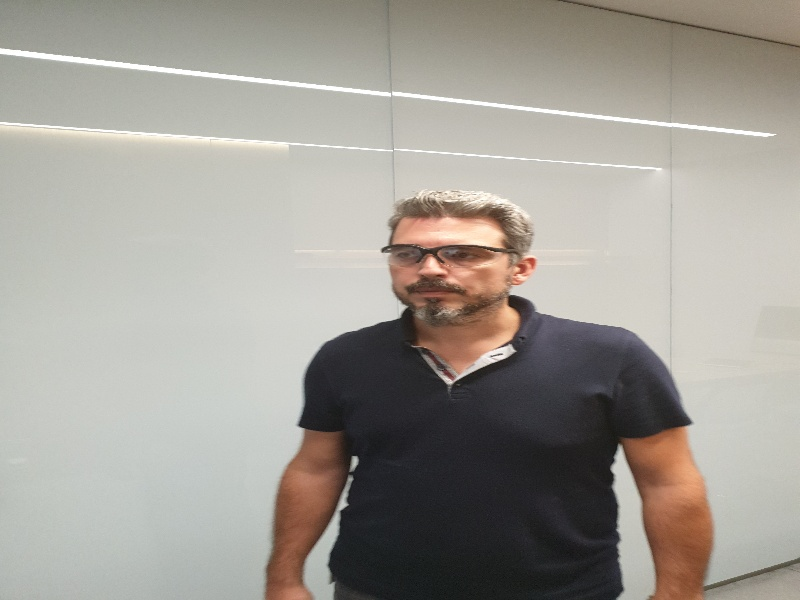Gozluk: (381, 245, 518, 265)
